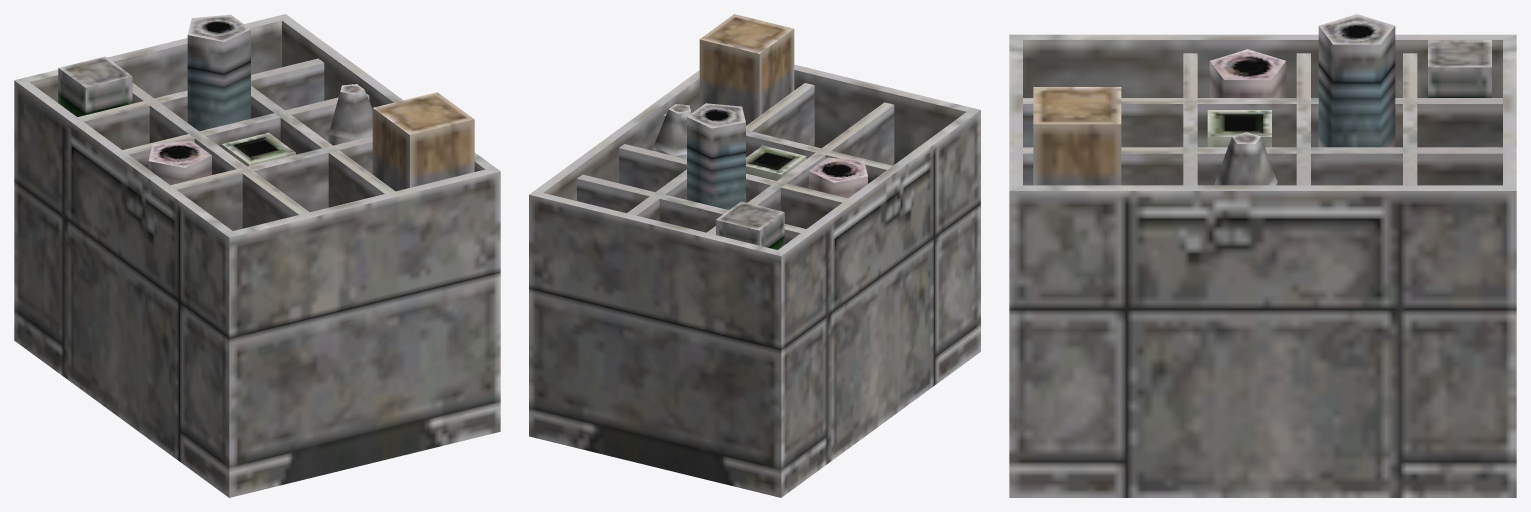
The model's file is eqp_comp_chemical.fbx.
3 renders of one model, left to right at view 1: azimuth 30°, elevation 25°; view 2: azimuth 150°, elevation 25°; view 3: azimuth 270°, elevation 25°, orthographic. The views are drawn at different scales.
Parts seen in each view (by area): view 1: mesh_node; view 2: mesh_node; view 3: mesh_node.
Part boxes in pixels (x1,y1,x2,y2): mesh_node: [14, 14, 500, 497]; mesh_node: [529, 14, 980, 497]; mesh_node: [1009, 14, 1516, 497].
Size of the model in its own units: 0.2081 by 0.2411 by 0.2855.
1 material, 1 textured.
